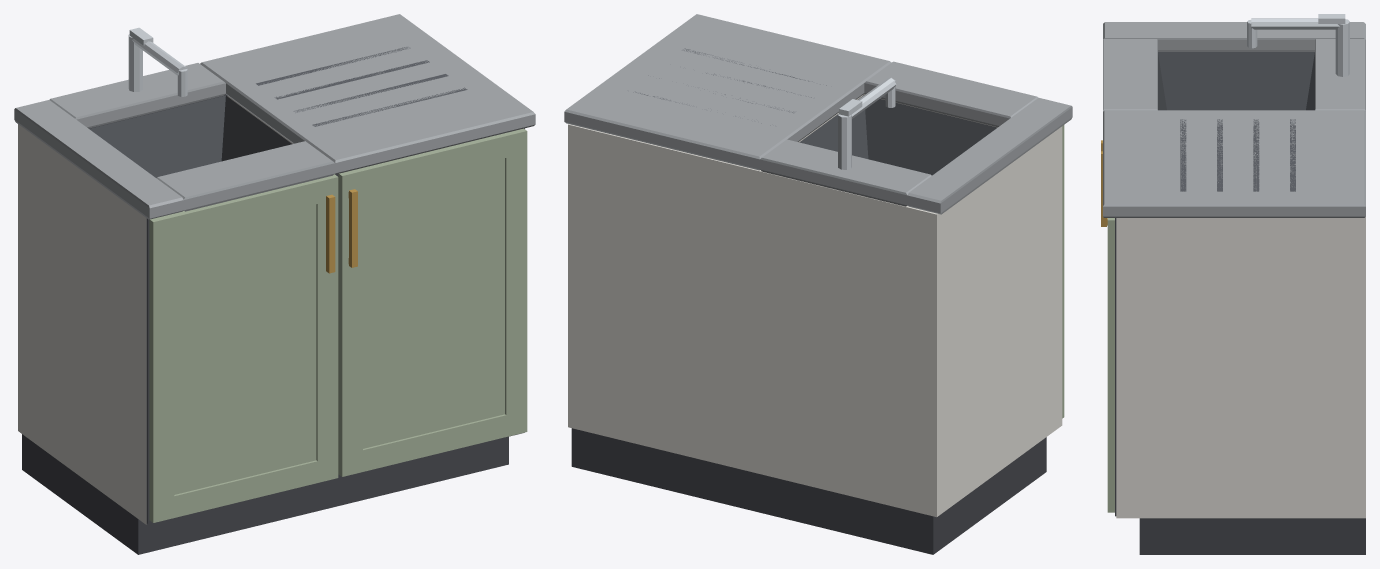
The model's file is FN_Cabinet_Kitchen_Sink.obj.
The picture shows the model from 3 angles, left to right: view 1: azimuth 30°, elevation 25°; view 2: azimuth 150°, elevation 25°; view 3: azimuth 270°, elevation 25°; orthographic projection. The views are drawn at different scales.
Visible parts, largest first — view 1: FN_Cabinet_Kitchen_Sink; view 2: FN_Cabinet_Kitchen_Sink; view 3: FN_Cabinet_Kitchen_Sink.
Part boxes in pixels (x1,y1,x2,y2): FN_Cabinet_Kitchen_Sink: [14, 14, 535, 554]; FN_Cabinet_Kitchen_Sink: [564, 14, 1072, 554]; FN_Cabinet_Kitchen_Sink: [1101, 14, 1365, 554].
Size of the model in its own units: 1.02 by 1.07 by 0.624.
1 material, 1 textured.
